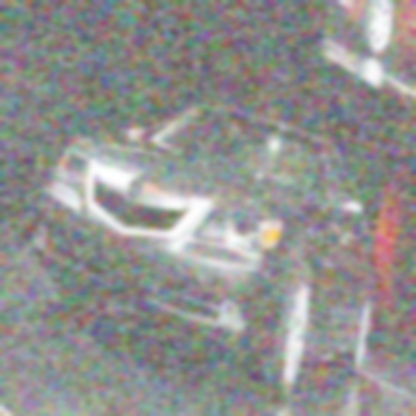Vehicle: (33, 102, 379, 400)
